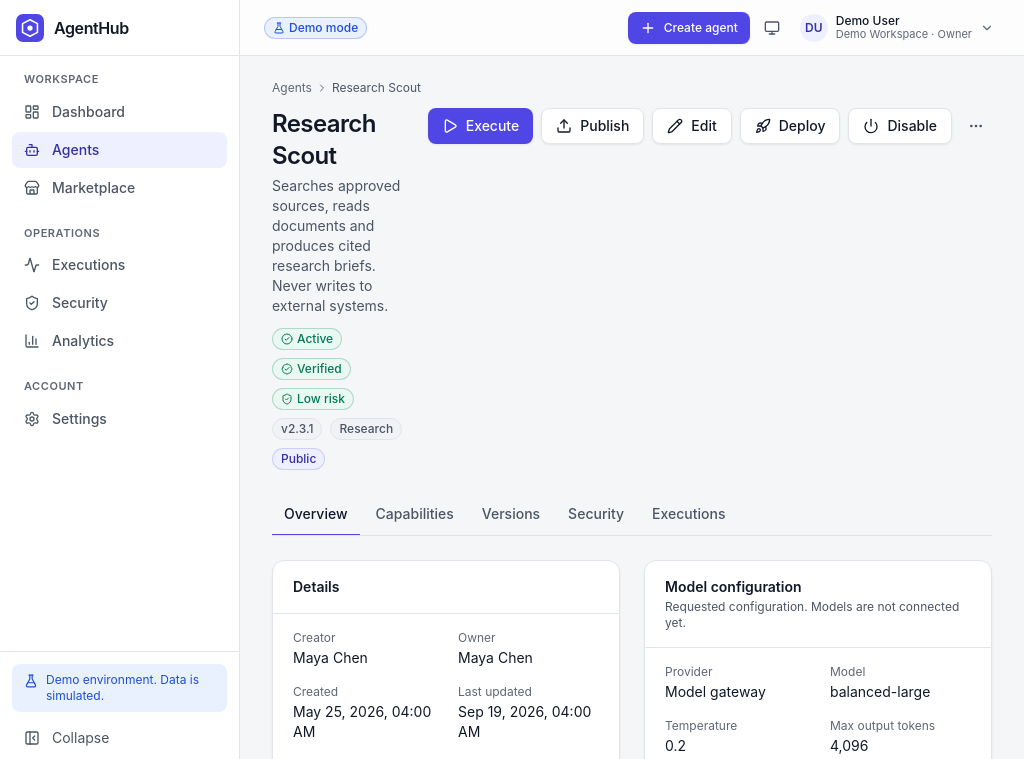
Test case: publishing an agent › refuses to publish the same version twice
This screenshot has width=1024, height=759.
Expected: the heading "Research Scout" is shown, [272,109,376,170]
// The demo agent already has its current version published.
Click the button "Publish": (593, 126) [541,108,644,144]
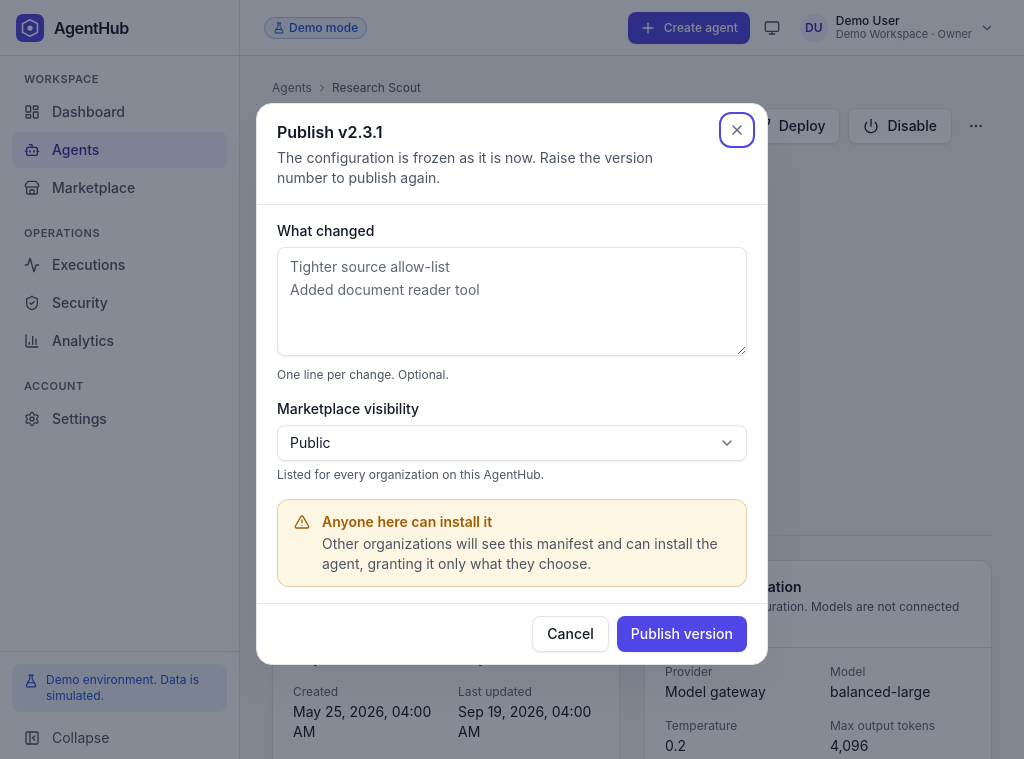
Click the button "Publish version": (682, 634) [617,616,747,652]
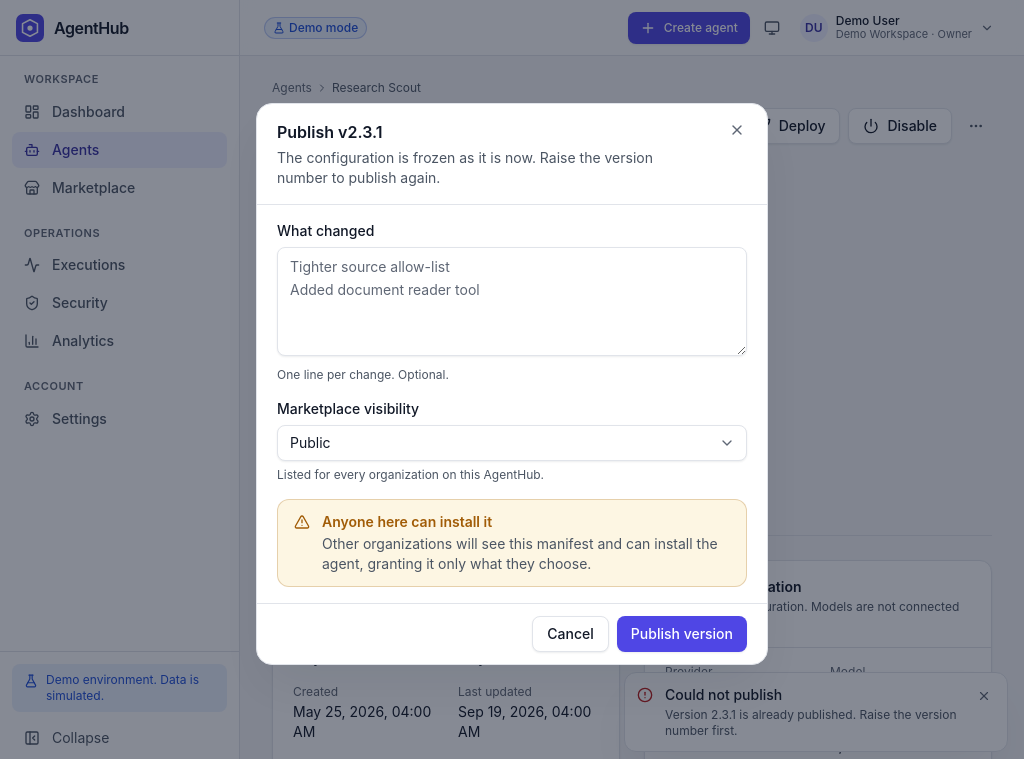
Expected: the text "already published" is shown, [665,707,956,738]
